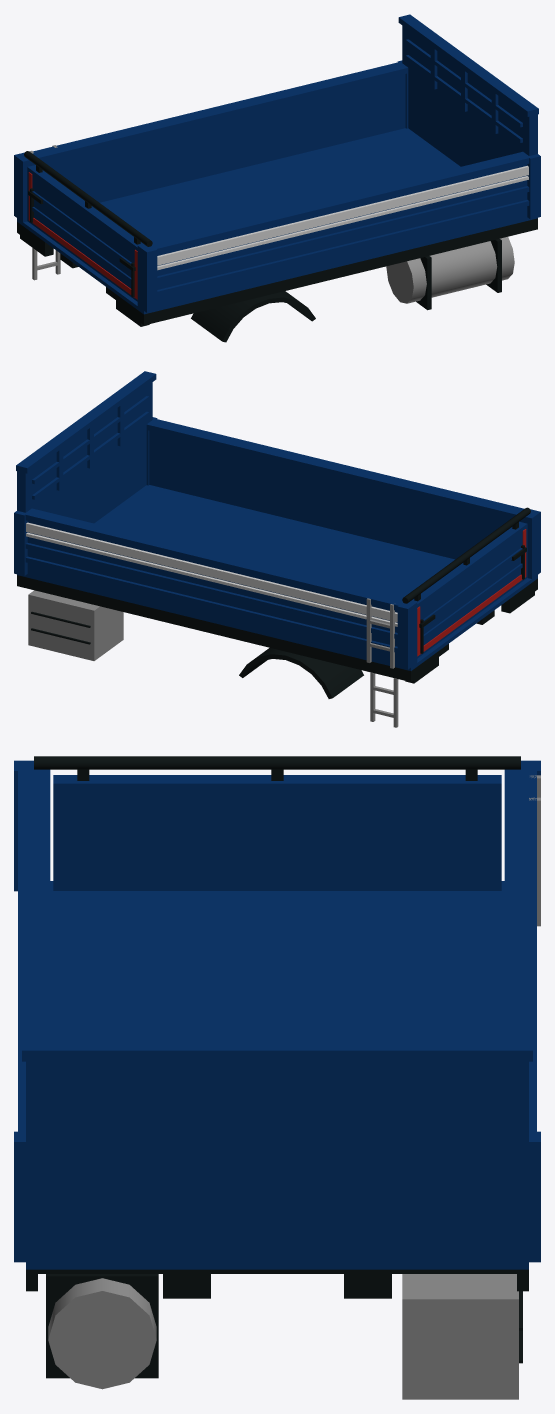
The model's file is arocs-1835-ak-body.glb.
3 views of the same model, one above another, from view 1: azimuth 30°, elevation 25°; view 2: azimuth 150°, elevation 25°; view 3: azimuth 270°, elevation 25° (orthographic). The views are drawn at different scales.
Visible parts, largest first — view 1: body; view 2: body; view 3: body.
Boxes of the visible parts, bbox=[...] form: body: bbox=[14, 14, 540, 342]; body: bbox=[14, 371, 540, 727]; body: bbox=[14, 756, 540, 1399].
Bounding box in the file's own units: 4.48 × 1.96 × 2.62.
